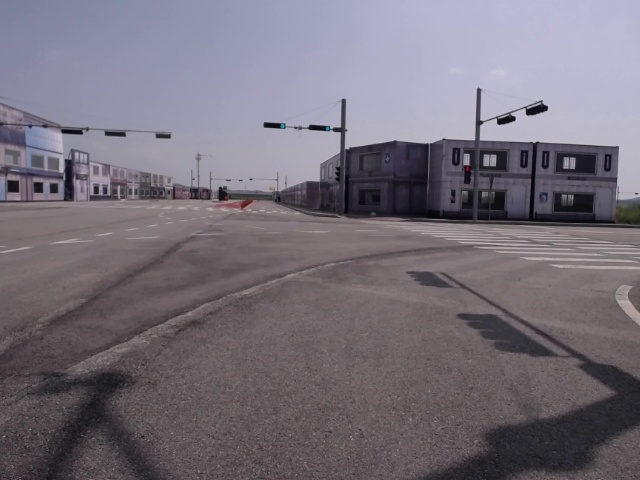straight_green_4: (310, 124, 331, 132), (262, 123, 286, 128)
